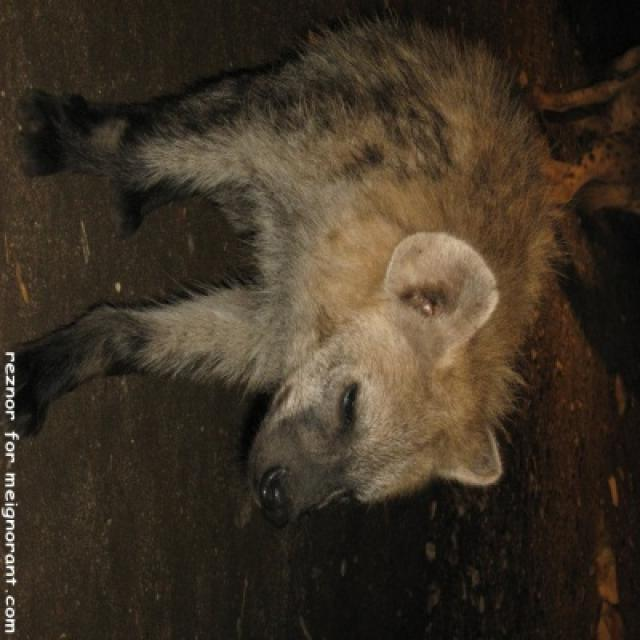hyena: (19, 16, 555, 525)
